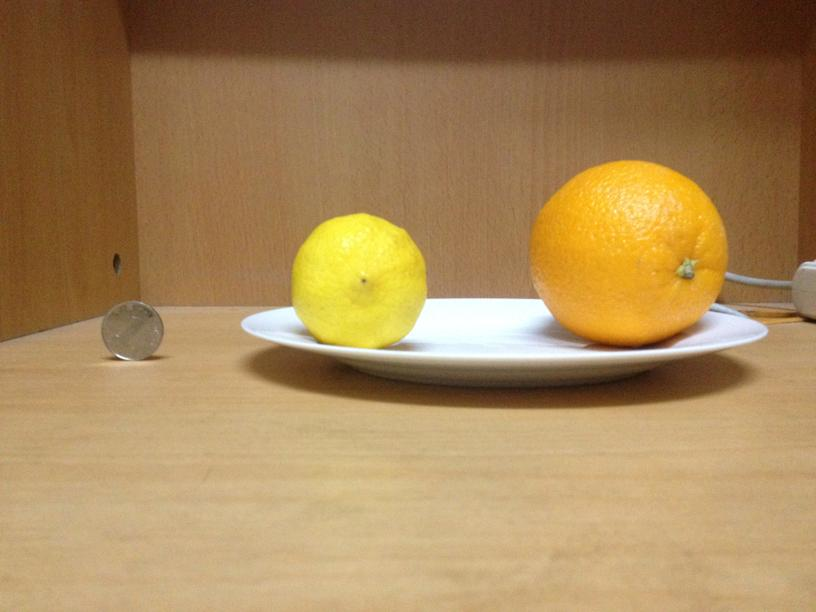coin: (103, 301, 164, 359)
lemon: (290, 214, 428, 346)
orange: (533, 160, 730, 343)
